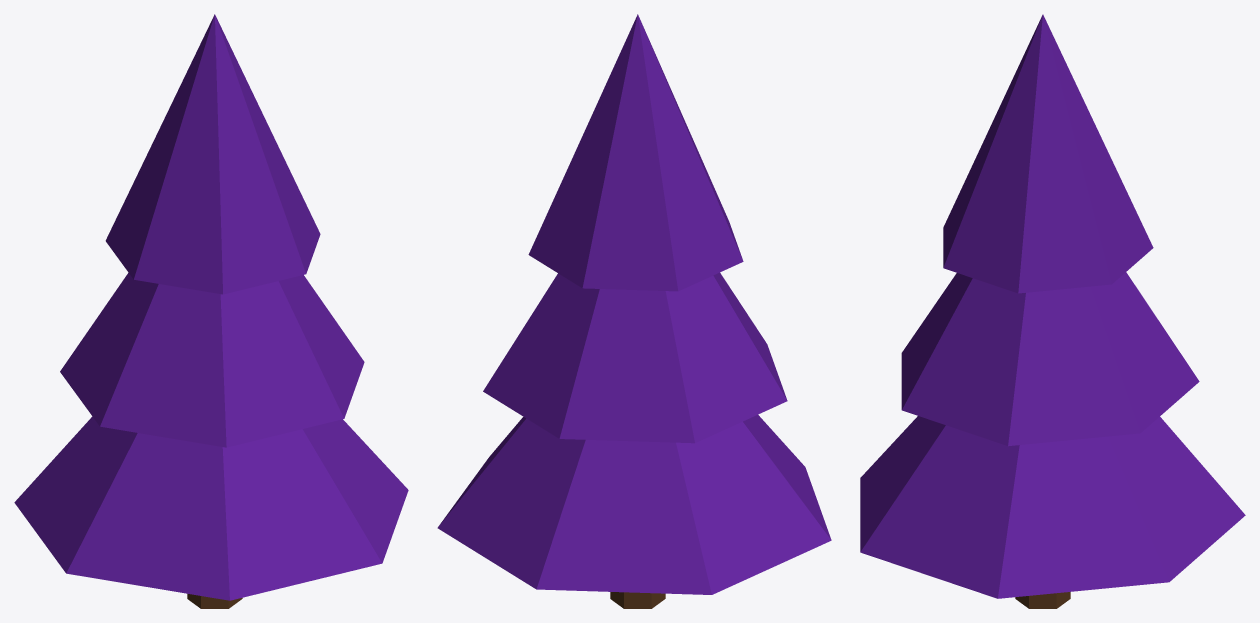
Rendered from Prop_OR_LedgerTree_00.glb.
3 renders of one model, left to right at view 1: azimuth 30°, elevation 25°; view 2: azimuth 150°, elevation 25°; view 3: azimuth 270°, elevation 25°, orthographic.
Visible parts, largest first — view 1: Prop_OR_LedgerTree_00; view 2: Prop_OR_LedgerTree_00; view 3: Prop_OR_LedgerTree_00.
Part boxes in pixels (x1,y1,x2,y2): Prop_OR_LedgerTree_00: [14, 14, 408, 608]; Prop_OR_LedgerTree_00: [437, 14, 831, 608]; Prop_OR_LedgerTree_00: [860, 14, 1245, 608].
Bounding box in the file's own units: 2.14 × 3.5 × 2.09.
